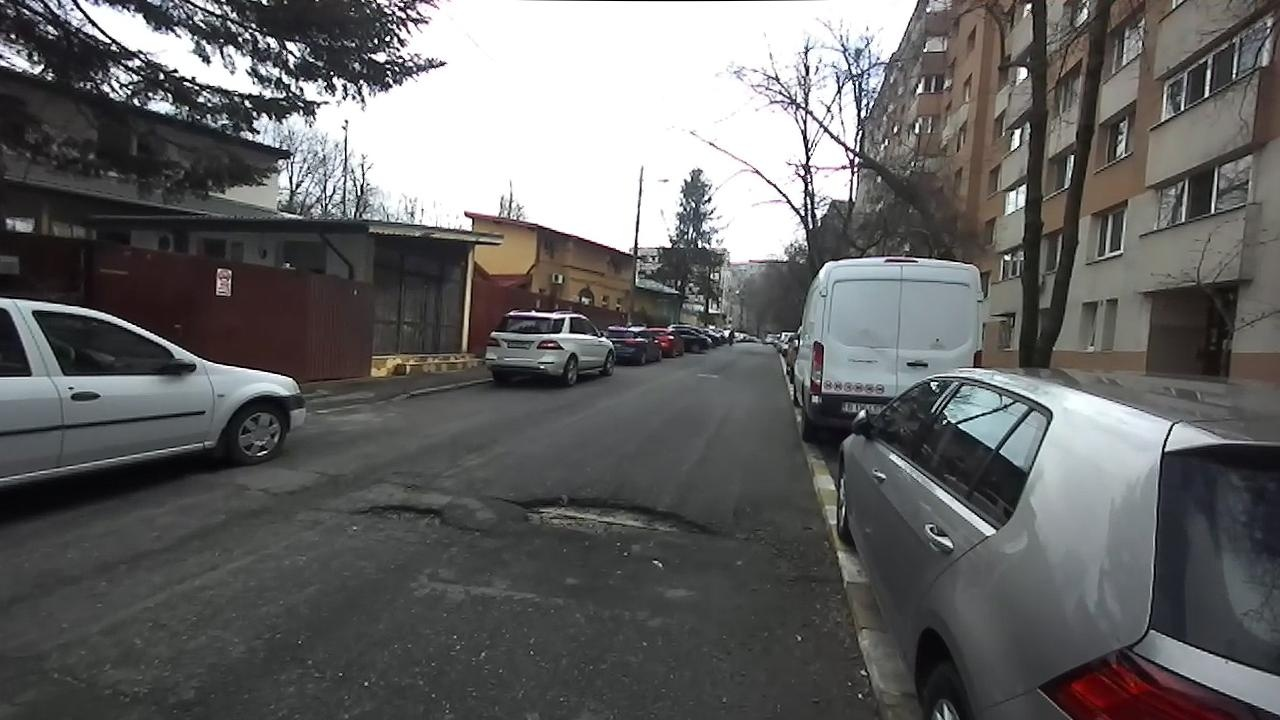pothole: (493, 490, 741, 545), (343, 500, 482, 536)
